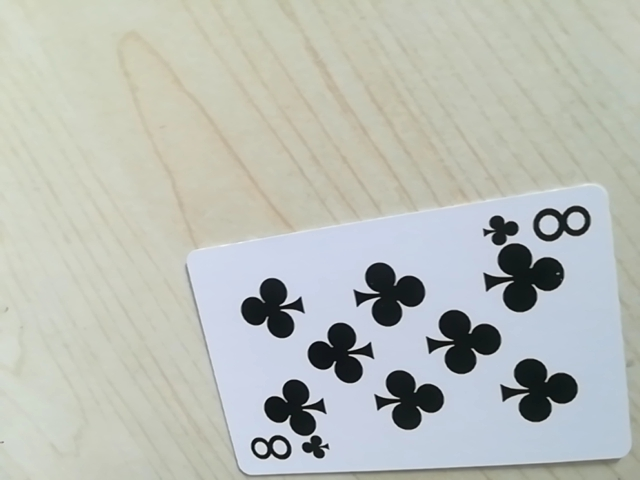mh 8: (481, 200, 597, 247), (244, 430, 330, 471)
